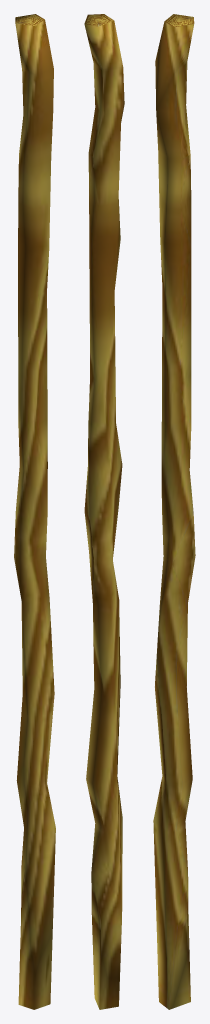
Rendered from STAFF.fbx.
3 views of the same model, side by side, from view 1: azimuth 90°, elevation 25°; view 2: azimuth 150°, elevation 25°; view 3: azimuth 270°, elevation 25° (orthographic).
Parts seen in each view (by area): view 1: STAFF; view 2: STAFF; view 3: STAFF.
Boxes of the visible parts, x1,y1,x2,y2 form: STAFF: (14, 14, 55, 1009); STAFF: (84, 14, 124, 1009); STAFF: (153, 14, 195, 1009).
Size of the model in its own units: 501 by 13397 by 519.
1 material, 1 textured.
